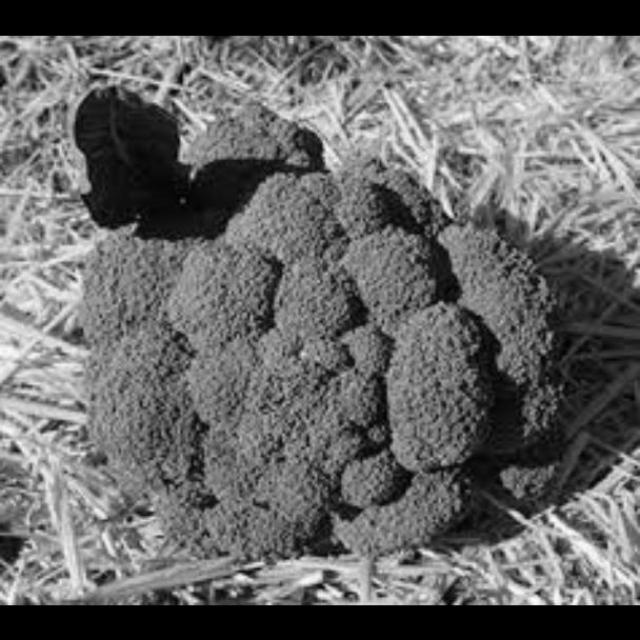broccoli: (68, 92, 578, 565)
